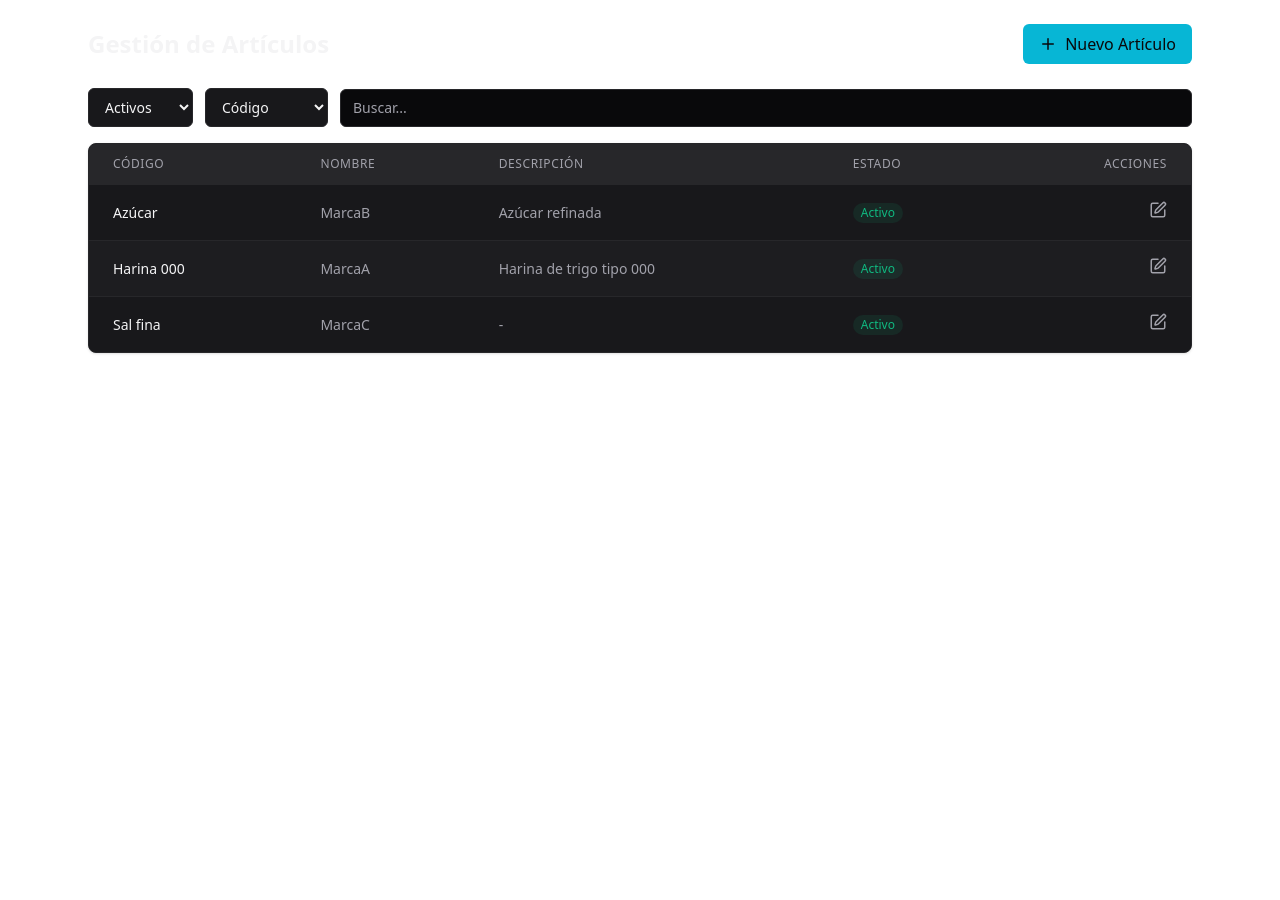
ArticulosPage › "Activar Artículo" button is visible when editing an inactive articulo
Check: the text "Harina 000" is shown, box [89,240,296,296]
# Switch to inactivos
Select "Inactivos" in the 1st dropdown. click: (140, 108)
box: [88,88,193,127]
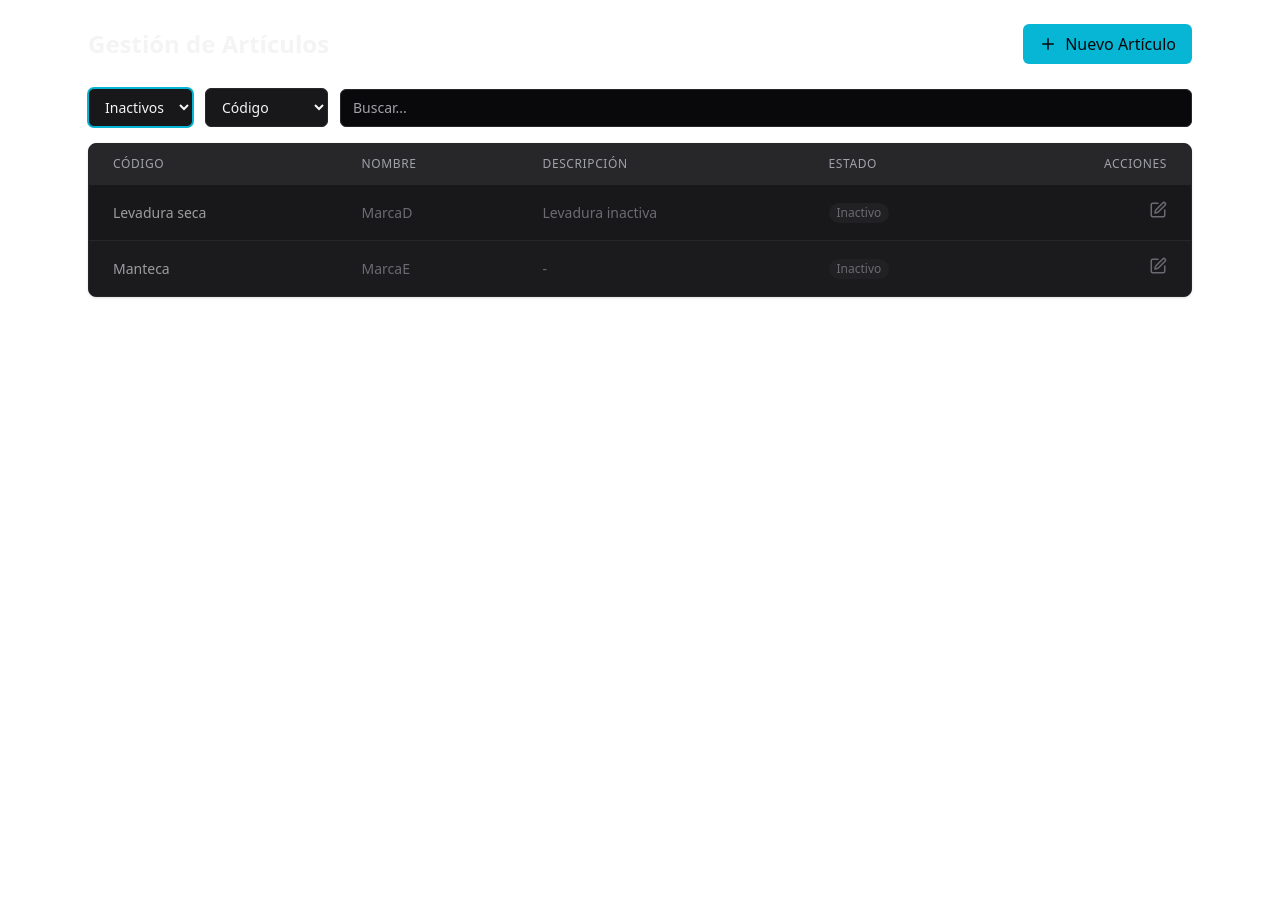
Check: the text "Levadura seca" is shown, box [89,184,338,240]
Click the button titled "Editar" in the row of "Levadura seca". click: (1158, 210)
box: [1149,201,1167,219]
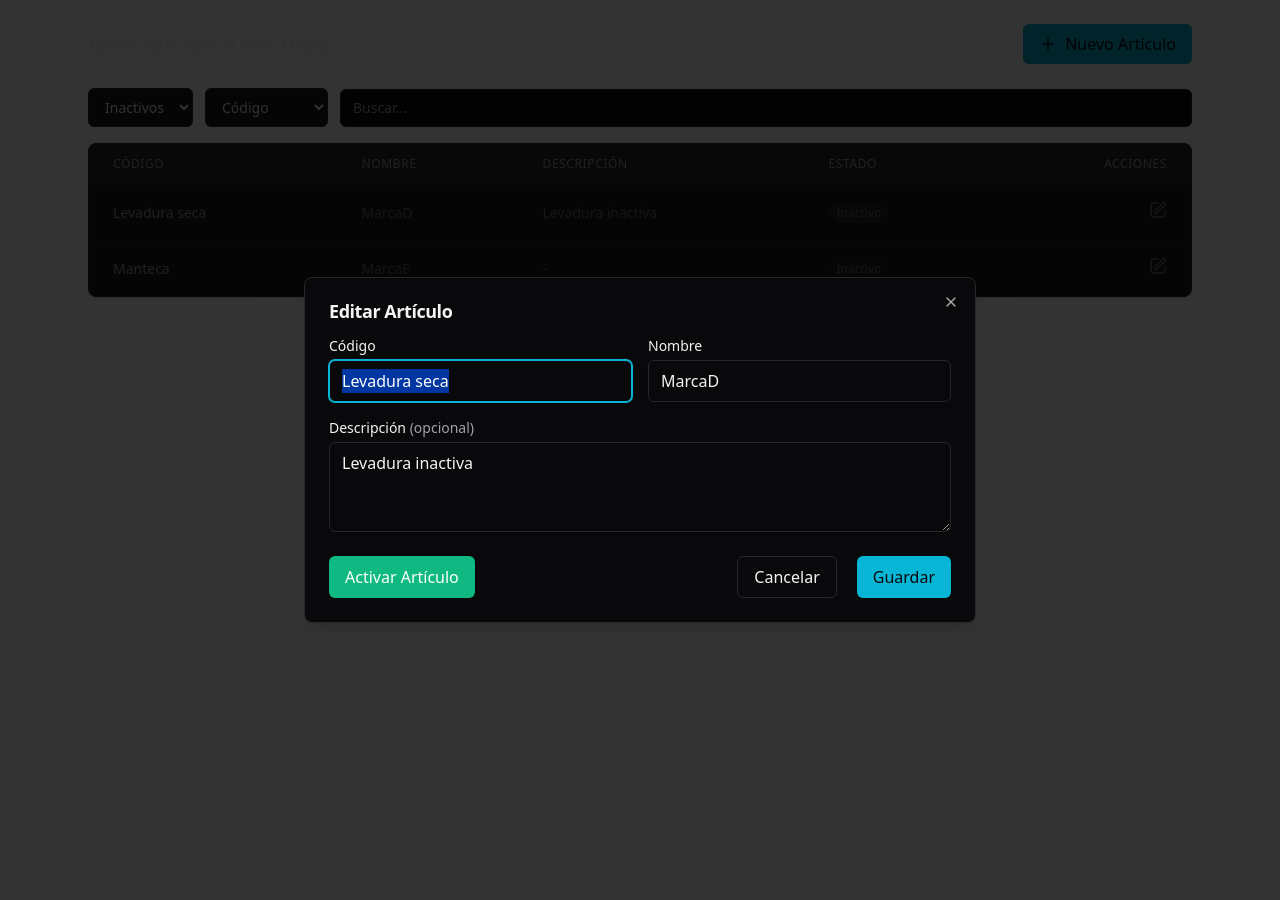
Check: the heading "Editar Artículo" is shown, box [329,299,452,323]
Check: the button "Activar Artículo" is shown, box [329,556,475,598]
